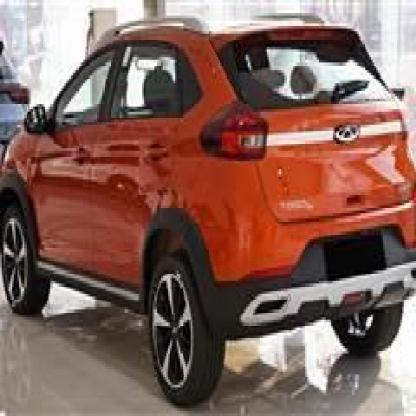Car: (0, 3, 416, 408), (0, 31, 36, 174)
